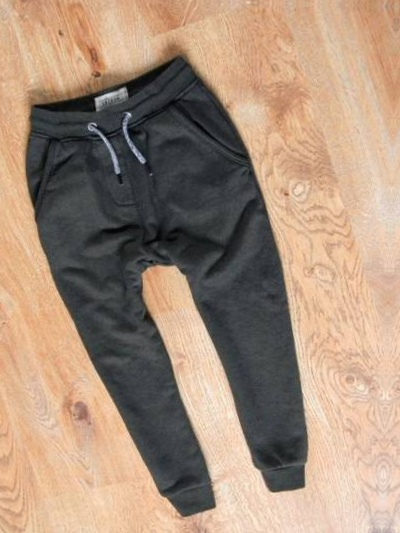Pants: (0, 22, 359, 509)
